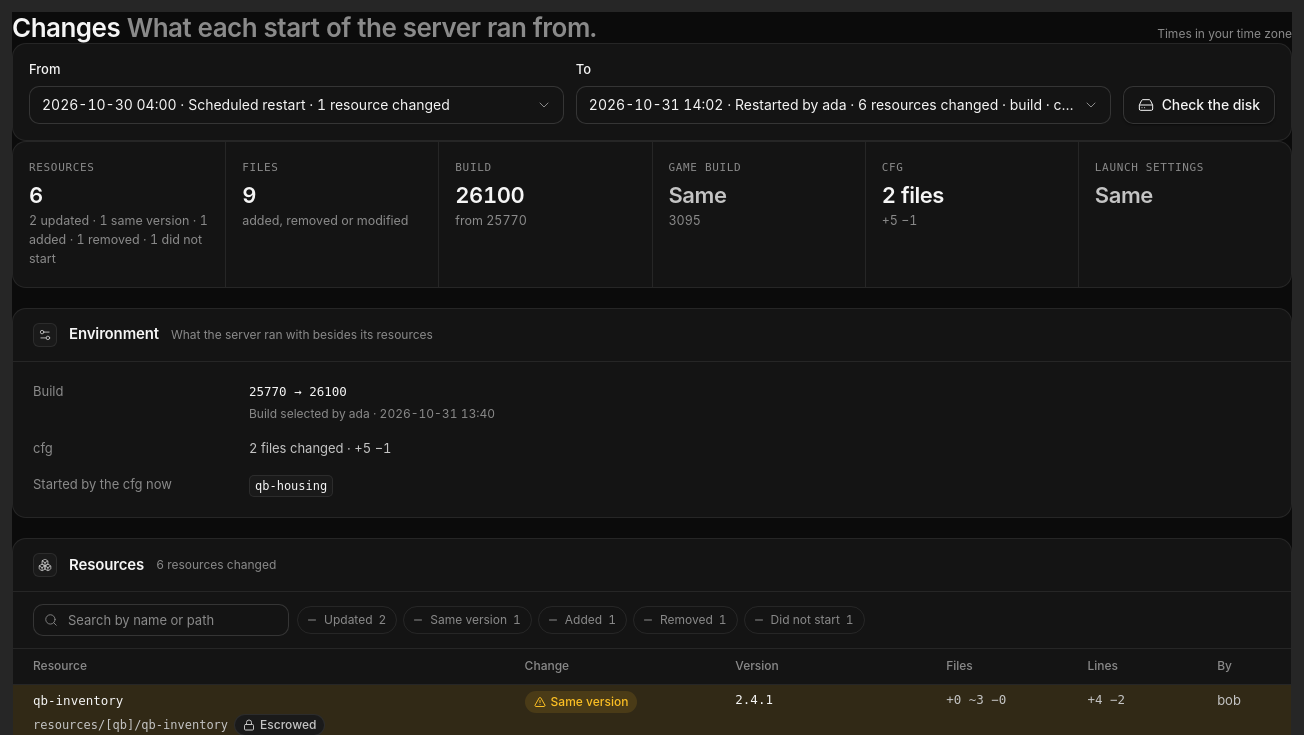
Test: ChangesPage › should narrow the table to the changes picked and to what the search finds
This screenshot has width=1304, height=735.
Click the button "Updated 2" at (347, 620), box [297,606,397,634]
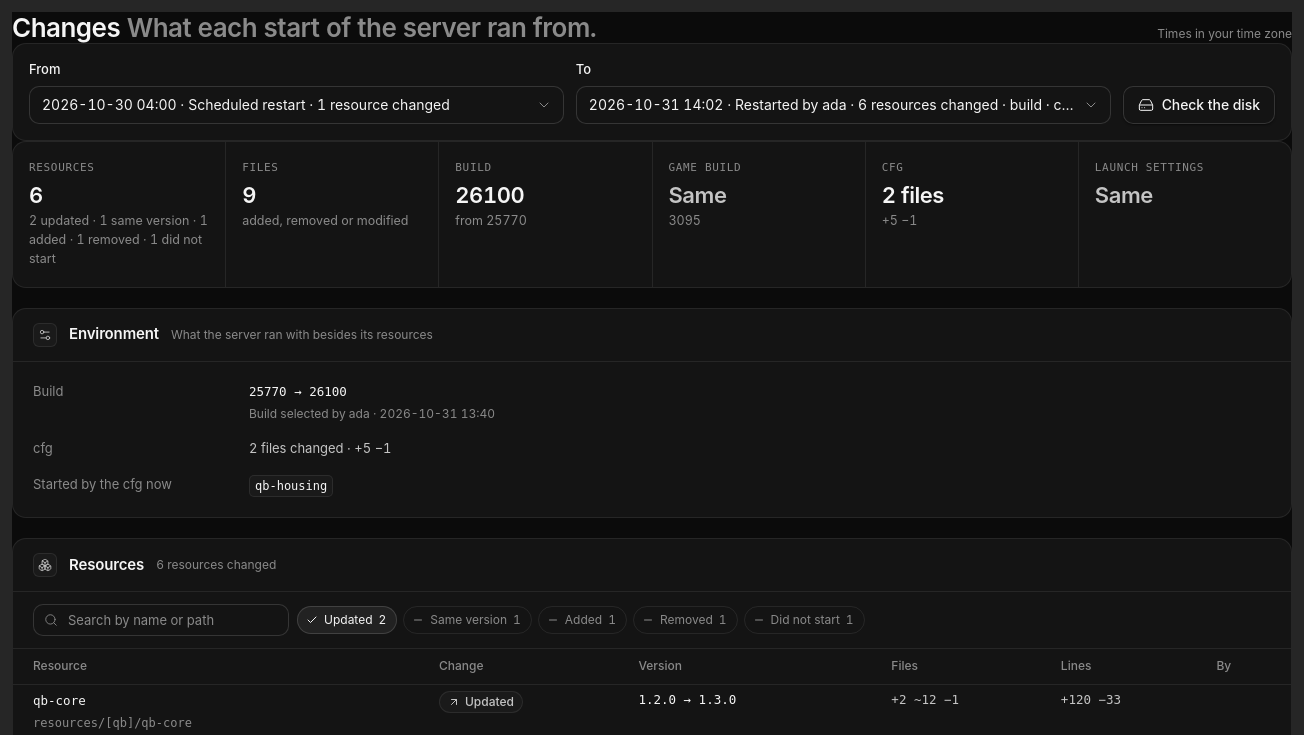
Click the button "Did not start 1" at (804, 620), box [744,606,865,634]
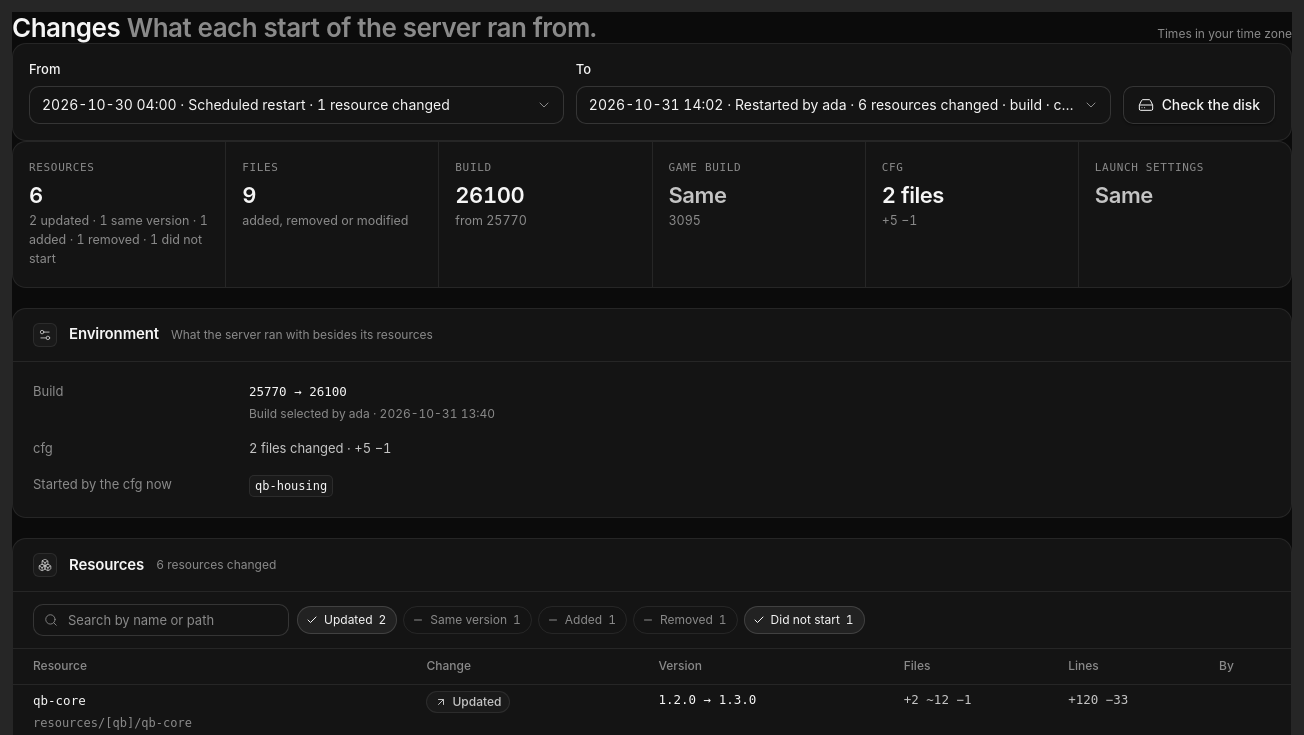
Type "[ox]" into the search field labelled "Search by name or path" at (161, 620), box [33,604,289,636]
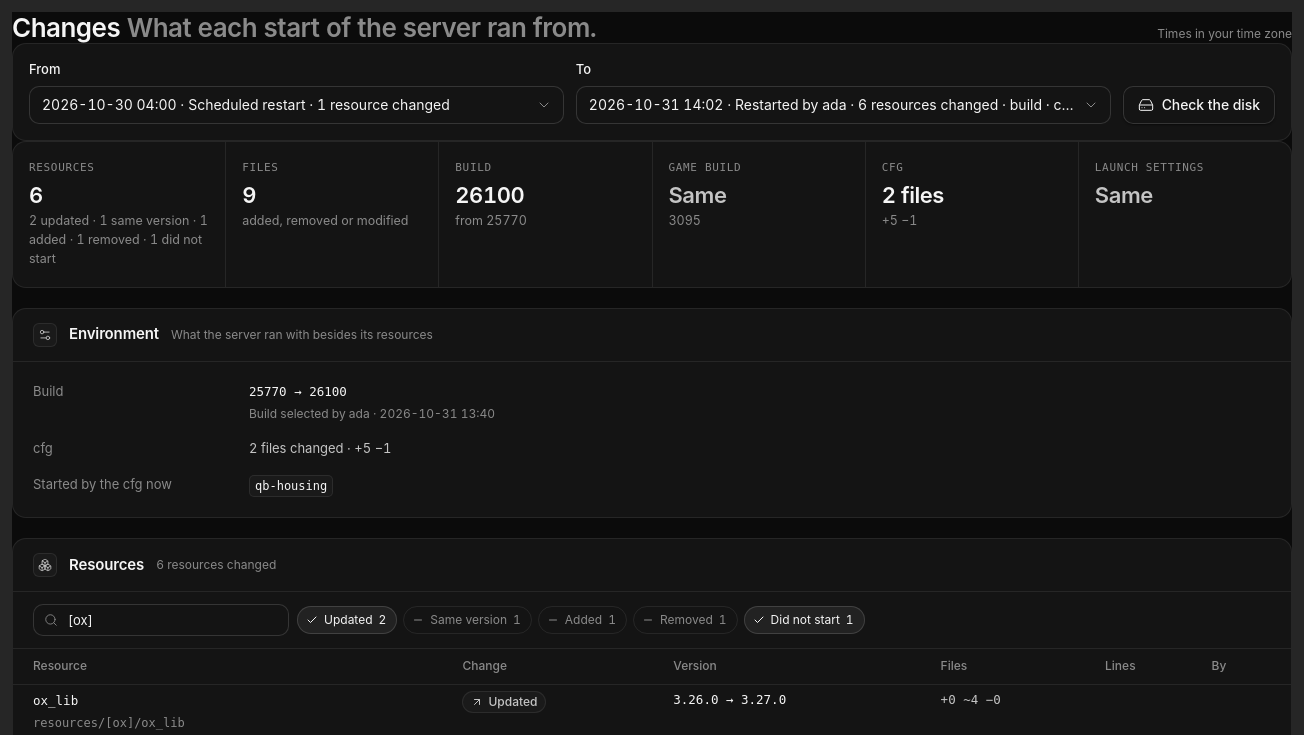
Replace the text in the search field named "Search by name or path" with "nothing like it" at (161, 620), box [33,604,289,636]
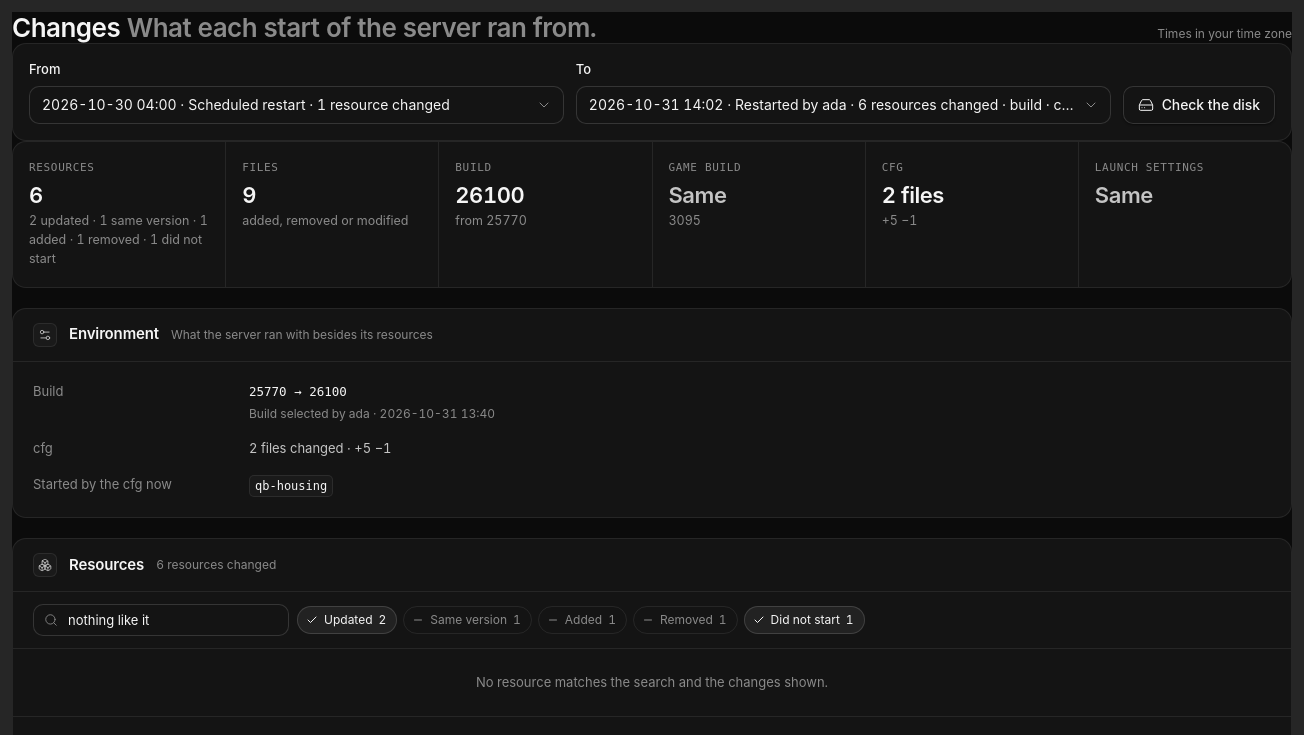
Now the text "No resource matches the search and the changes shown." is shown, box [476,674,828,690]
